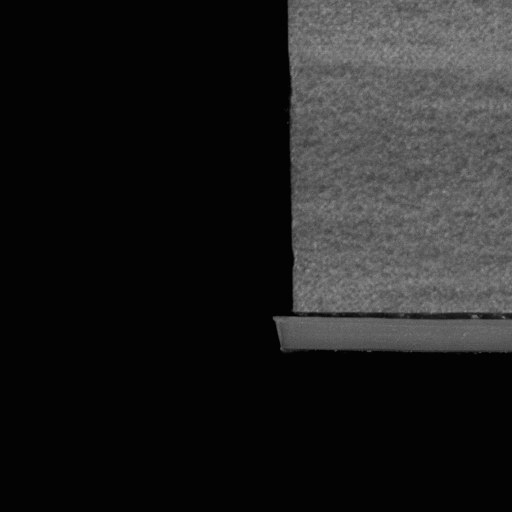jiaofeng: (291, 309, 511, 336)
